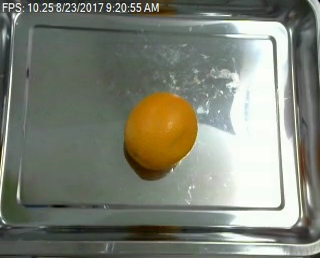Orange: (125, 91, 199, 171)
